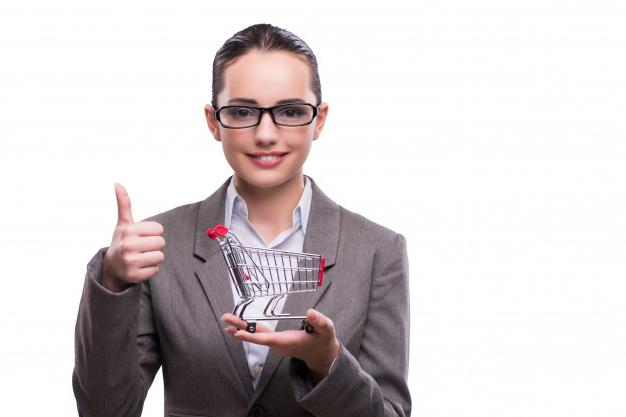thumbsup: (112, 182, 166, 284)
